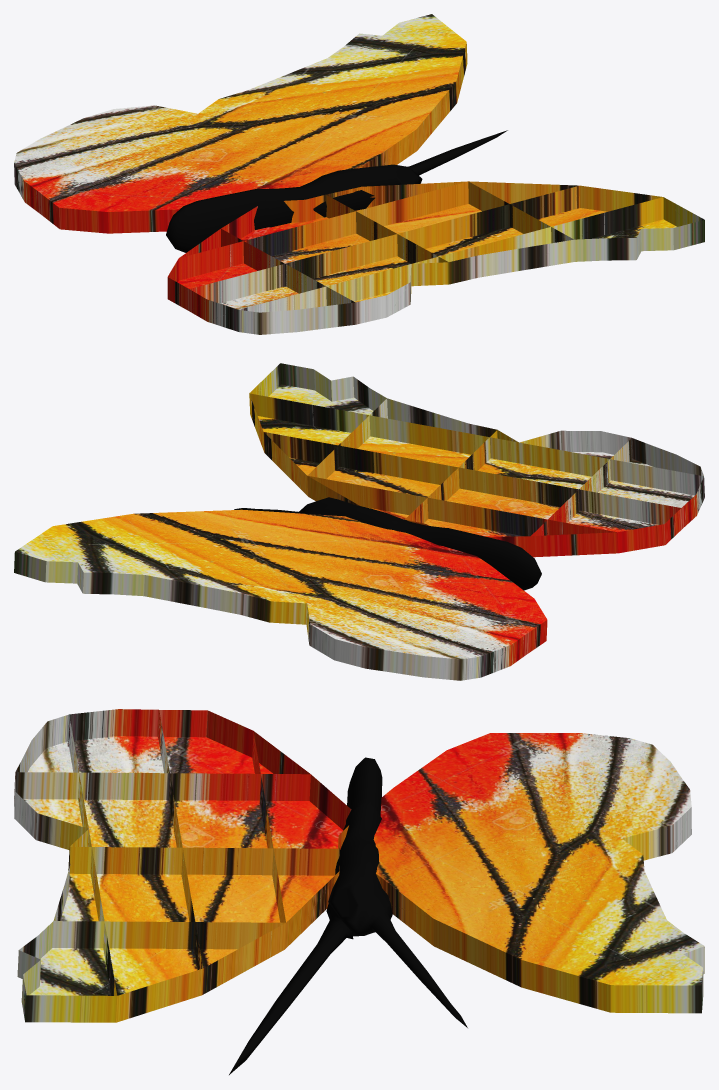
File: Butterfly.obj
3 renders of one model, top to bottom at view 1: azimuth 30°, elevation 25°; view 2: azimuth 150°, elevation 25°; view 3: azimuth 270°, elevation 25°, orthographic. The views are drawn at different scales.
Visible parts, largest first — view 1: pasted__pasted__pPlane1 pasted__group group1, pasted__pPlane1 group, pCylinder1; view 2: pasted__pPlane1 group, pasted__pasted__pPlane1 pasted__group group1, pCylinder1; view 3: pasted__pasted__pPlane1 pasted__group group1, pasted__pPlane1 group, pCylinder1.
Boxes of the visible parts, <box> form: pasted__pasted__pPlane1 pasted__group group1: <box>167,181,704,334</box>; pasted__pPlane1 group: <box>14,14,467,233</box>; pCylinder1: <box>166,130,507,252</box>; pasted__pPlane1 group: <box>14,509,547,680</box>; pasted__pasted__pPlane1 pasted__group group1: <box>249,363,704,557</box>; pCylinder1: <box>234,497,541,590</box>; pasted__pasted__pPlane1 pasted__group group1: <box>14,709,351,1022</box>; pasted__pPlane1 group: <box>373,733,704,1013</box>; pCylinder1: <box>229,757,467,1074</box>.
Size of the model in its own units: 16.65 by 3.03 by 17.26.
Materials: 3 (2 with a texture image).
